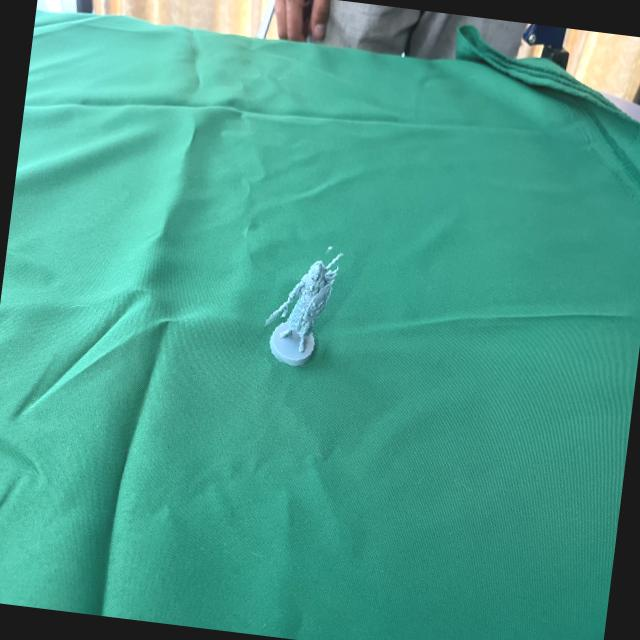isis_follower: (258, 237, 349, 373)
